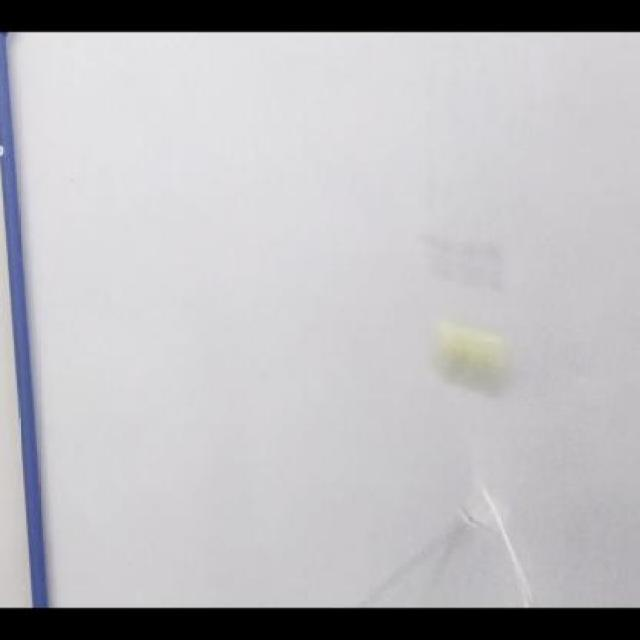baseball: (429, 320, 513, 398)
